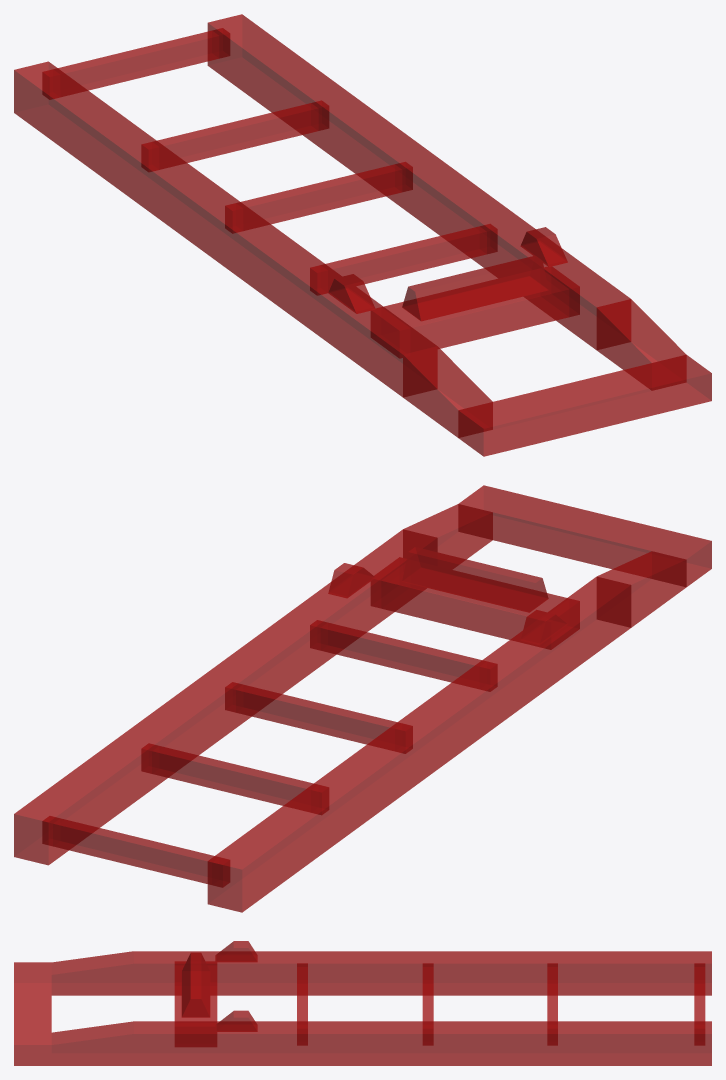
The model's file is SM_Bld_Crane_01_Arm_Collision.fbx.
The picture shows the model from 3 angles, top to bottom: view 1: azimuth 30°, elevation 25°; view 2: azimuth 150°, elevation 25°; view 3: azimuth 270°, elevation 25°; orthographic projection. The views are drawn at different scales.
Parts seen in each view (by area): view 1: SM_Bld_Crane_01_Arm_Collision; view 2: SM_Bld_Crane_01_Arm_Collision; view 3: SM_Bld_Crane_01_Arm_Collision.
Part boxes in pixels (x1=…): SM_Bld_Crane_01_Arm_Collision: x1=14, y1=14, x2=711, y2=456; SM_Bld_Crane_01_Arm_Collision: x1=14, y1=485, x2=711, y2=912; SM_Bld_Crane_01_Arm_Collision: x1=14, y1=941, x2=711, y2=1065.
Size of the model in its own units: 1627 by 447 by 5801.
